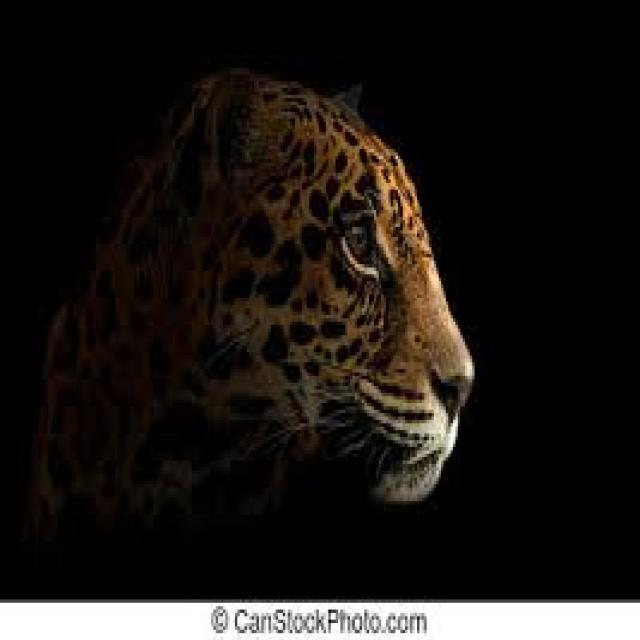Jaguar: (33, 64, 474, 542)
